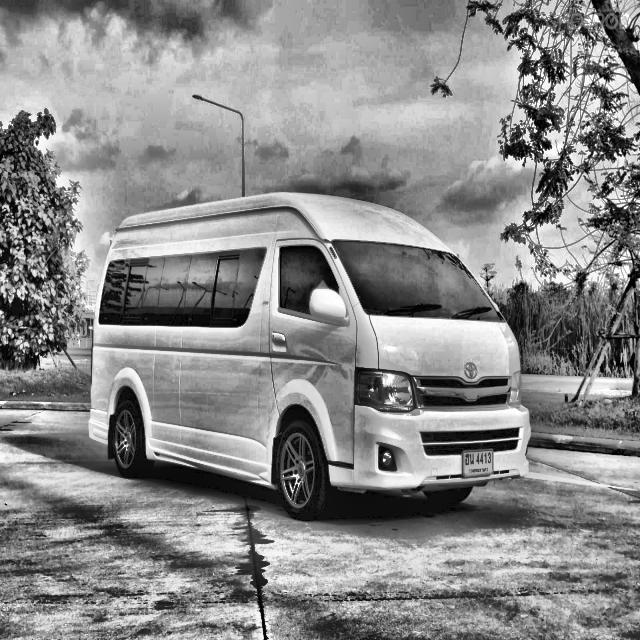license-plate: (460, 448, 495, 480)
